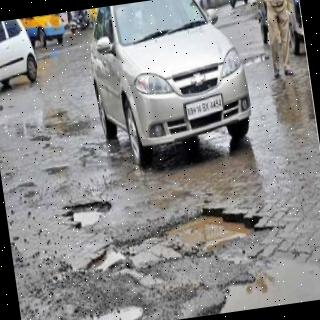pothole: (84, 207, 260, 267), (62, 200, 112, 229)
